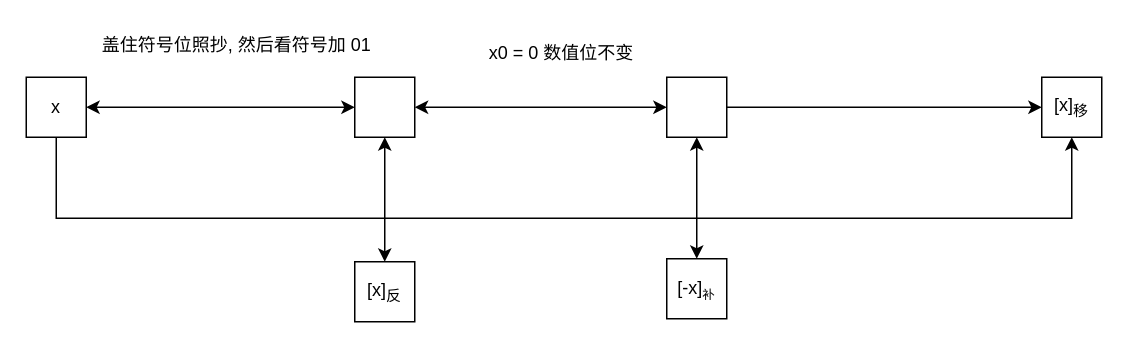
The diagram is 1128 pixels wide and 348 high, and some of its shapes have lost their labels. The centre of each missing label's shape, as x and y in pixels:
[x] 原: the point at 384,106
[x] 补: the point at 696,106
